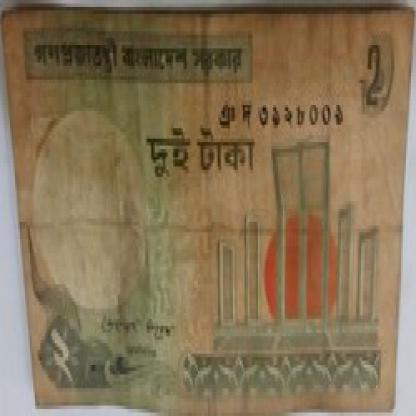two taka: (42, 312, 86, 406), (360, 45, 394, 121)
